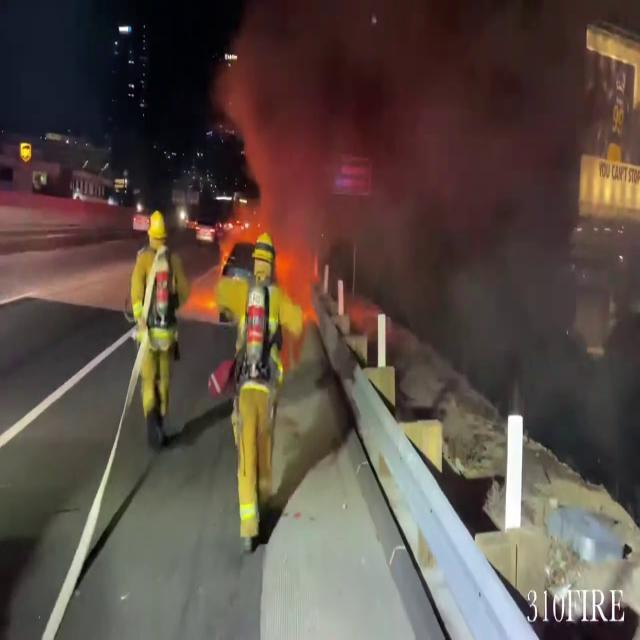Smoke: (213, 0, 614, 228)
